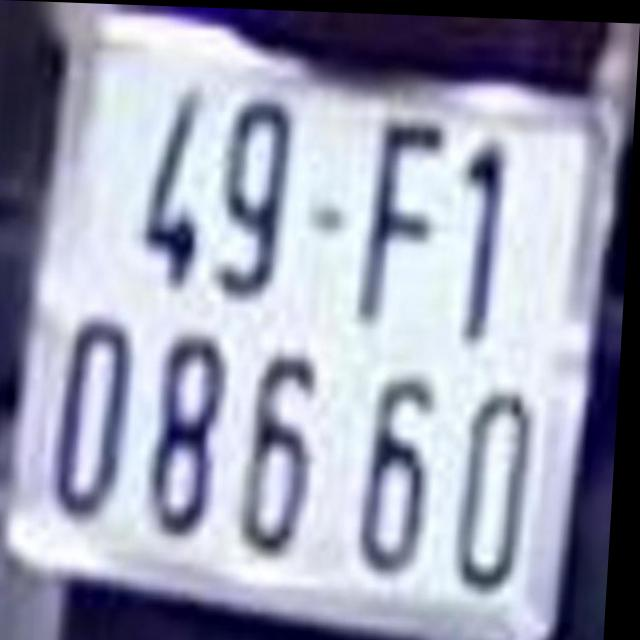0: (461, 389, 538, 589), (60, 318, 138, 515)
1: (456, 130, 511, 341)
4: (147, 75, 217, 290)
6: (365, 372, 444, 574), (249, 348, 321, 553)
8: (159, 331, 229, 532)
9: (222, 97, 291, 298)
F: (361, 107, 444, 324)
